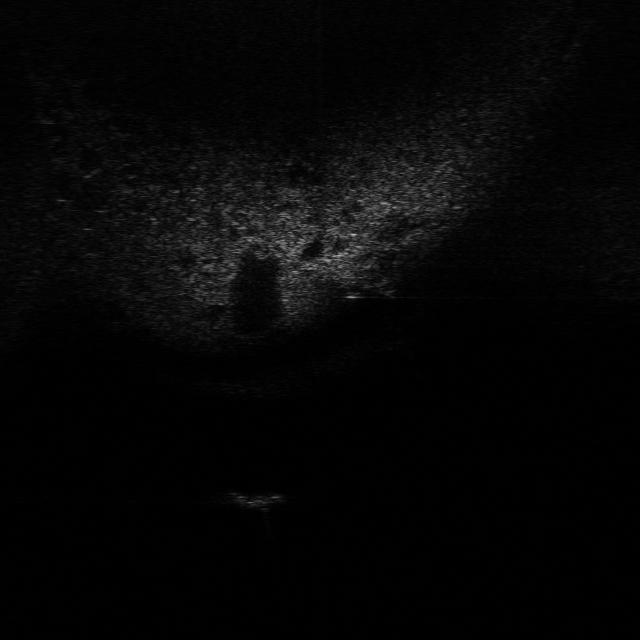cube: (220, 482, 290, 512)
